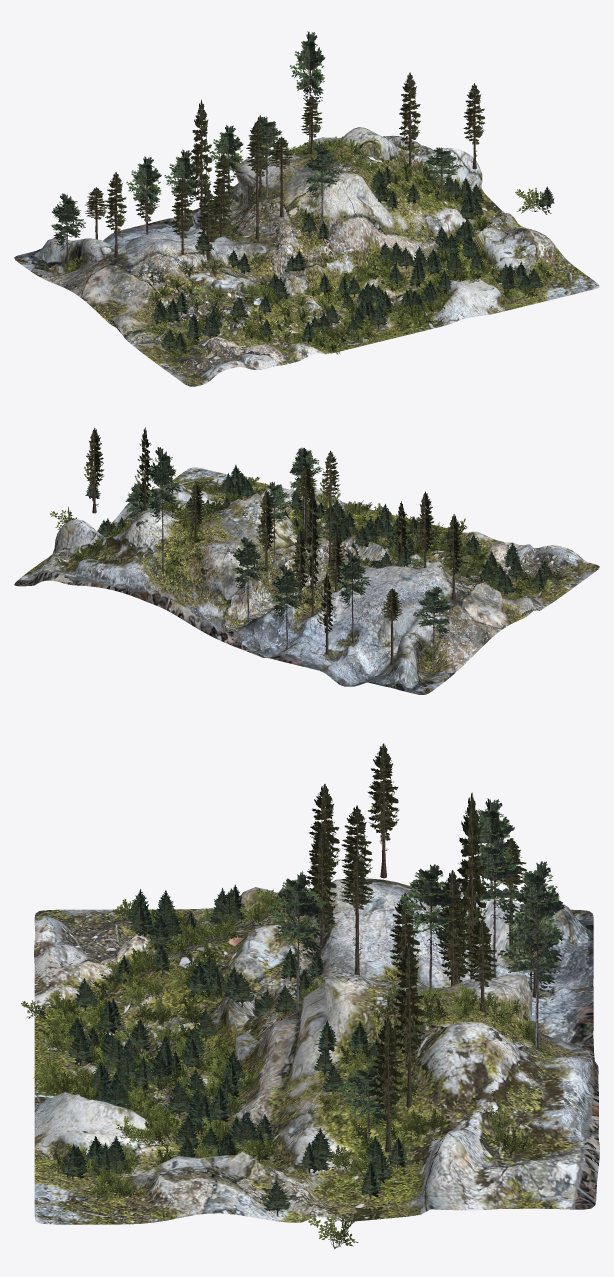
File: the_landscape_is_a_forest_in_the_mountains.glb
3 views of the same model, one above another, from view 1: azimuth 30°, elevation 25°; view 2: azimuth 150°, elevation 25°; view 3: azimuth 270°, elevation 25° (orthographic). The views are drawn at different scales.
Parts seen in each view (by area): view 1: a37081a7611992c6f6d9dc1786dbc08d_a37081a7611992c6f6d9dc1786d, 05ade0e713892be558511d706fa6c547-no-bg-preview (carve.photos (×8), Cylinder.023_5abdab9bf64818adacd4984d5925e5ca (1)-no-bg-prev, Cylinder.018_5abdab9bf64818adacd4984d5925e5ca (1)-no-bg-prev, Cylinder.019_5abdab9bf64818adacd4984d5925e5ca (1)-no-bg-prev, Cylinder.016_5abdab9bf64818adacd4984d5925e5ca (1)-no-bg-prev, Cylinder.015_5abdab9bf64818adacd4984d5925e5ca (1)-no-bg-prev, Cylinder.014_5abdab9bf64818adacd4984d5925e5ca (1)-no-bg-prev, Cylinder.012_5abdab9bf64818adacd4984d5925e5ca (1)-no-bg-prev, Cylinder.017_5abdab9bf64818adacd4984d5925e5ca (1)-no-bg-prev, Cylinder.022_5abdab9bf64818adacd4984d5925e5ca (1)-no-bg-prev, Cylinder.020_5abdab9bf64818adacd4984d5925e5ca (1)-no-bg-prev; view 2: a37081a7611992c6f6d9dc1786dbc08d_a37081a7611992c6f6d9dc1786d, 05ade0e713892be558511d706fa6c547-no-bg-preview (carve.photos (×8), Cylinder.023_5abdab9bf64818adacd4984d5925e5ca (1)-no-bg-prev, Cylinder.015_5abdab9bf64818adacd4984d5925e5ca (1)-no-bg-prev, Cylinder.019_5abdab9bf64818adacd4984d5925e5ca (1)-no-bg-prev, Cylinder.016_5abdab9bf64818adacd4984d5925e5ca (1)-no-bg-prev, Cylinder.021_5abdab9bf64818adacd4984d5925e5ca (1)-no-bg-prev, Cylinder.022_5abdab9bf64818adacd4984d5925e5ca (1)-no-bg-prev, Cylinder.023, Cylinder.017_5abdab9bf64818adacd4984d5925e5ca (1)-no-bg-prev, Cylinder.012_5abdab9bf64818adacd4984d5925e5ca (1)-no-bg-prev, Cylinder.018_5abdab9bf64818adacd4984d5925e5ca (1)-no-bg-prev (+6 smaller); view 3: a37081a7611992c6f6d9dc1786dbc08d_a37081a7611992c6f6d9dc1786d, 05ade0e713892be558511d706fa6c547-no-bg-preview (carve.photos (×11), Cylinder.023_5abdab9bf64818adacd4984d5925e5ca (1)-no-bg-prev, Cylinder.018_5abdab9bf64818adacd4984d5925e5ca (1)-no-bg-prev, Cylinder.016_5abdab9bf64818adacd4984d5925e5ca (1)-no-bg-prev, Cylinder.019_5abdab9bf64818adacd4984d5925e5ca (1)-no-bg-prev, Cylinder.014_5abdab9bf64818adacd4984d5925e5ca (1)-no-bg-prev, Cylinder.021_5abdab9bf64818adacd4984d5925e5ca (1)-no-bg-prev, Cylinder.015_5abdab9bf64818adacd4984d5925e5ca (1)-no-bg-prev, Cylinder.020_5abdab9bf64818adacd4984d5925e5ca (1)-no-bg-prev, Cylinder.017_5abdab9bf64818adacd4984d5925e5ca (1)-no-bg-prev, Cylinder.012_5abdab9bf64818adacd4984d5925e5ca (1)-no-bg-prev (+3 smaller).
Boxes of the visible parts, x1,y1,x2,y2 form: a37081a7611992c6f6d9dc1786dbc08d_a37081a7611992c6f6d9dc1786d: (14, 127, 599, 386); 05ade0e713892be558511d706fa6c547-no-bg-preview (carve.photos (×8): (52, 31, 462, 273); Cylinder.023_5abdab9bf64818adacd4984d5925e5ca (1)-no-bg-prev: (190, 99, 211, 207); Cylinder.018_5abdab9bf64818adacd4984d5925e5ca (1)-no-bg-prev: (399, 72, 420, 148); Cylinder.019_5abdab9bf64818adacd4984d5925e5ca (1)-no-bg-prev: (463, 83, 484, 144); Cylinder.016_5abdab9bf64818adacd4984d5925e5ca (1)-no-bg-prev: (105, 172, 126, 245); Cylinder.015_5abdab9bf64818adacd4984d5925e5ca (1)-no-bg-prev: (171, 177, 192, 251); Cylinder.014_5abdab9bf64818adacd4984d5925e5ca (1)-no-bg-prev: (197, 188, 218, 249); Cylinder.012_5abdab9bf64818adacd4984d5925e5ca (1)-no-bg-prev: (246, 121, 267, 190); Cylinder.017_5abdab9bf64818adacd4984d5925e5ca (1)-no-bg-prev: (210, 181, 230, 233); Cylinder.022_5abdab9bf64818adacd4984d5925e5ca (1)-no-bg-prev: (213, 153, 234, 214); Cylinder.020_5abdab9bf64818adacd4984d5925e5ca (1)-no-bg-prev: (301, 95, 322, 137); a37081a7611992c6f6d9dc1786dbc08d_a37081a7611992c6f6d9dc1786d: (14, 467, 599, 694); 05ade0e713892be558511d706fa6c547-no-bg-preview (carve.photos (×8): (125, 447, 451, 667); Cylinder.023_5abdab9bf64818adacd4984d5925e5ca (1)-no-bg-prev: (307, 484, 318, 590); Cylinder.015_5abdab9bf64818adacd4984d5925e5ca (1)-no-bg-prev: (417, 491, 434, 553); Cylinder.019_5abdab9bf64818adacd4984d5925e5ca (1)-no-bg-prev: (86, 427, 103, 489); Cylinder.016_5abdab9bf64818adacd4984d5925e5ca (1)-no-bg-prev: (445, 514, 462, 575); Cylinder.021_5abdab9bf64818adacd4984d5925e5ca (1)-no-bg-prev: (258, 490, 275, 551); Cylinder.022_5abdab9bf64818adacd4984d5925e5ca (1)-no-bg-prev: (292, 529, 308, 590); Cylinder.023: (302, 492, 322, 616); Cylinder.017_5abdab9bf64818adacd4984d5925e5ca (1)-no-bg-prev: (327, 533, 344, 586); Cylinder.012_5abdab9bf64818adacd4984d5925e5ca (1)-no-bg-prev: (322, 450, 339, 519); Cylinder.018_5abdab9bf64818adacd4984d5925e5ca (1)-no-bg-prev: (139, 427, 150, 501); a37081a7611992c6f6d9dc1786dbc08d_a37081a7611992c6f6d9dc1786d: (34, 878, 599, 1224); 05ade0e713892be558511d706fa6c547-no-bg-preview (carve.photos (×11): (267, 798, 565, 1149); Cylinder.023_5abdab9bf64818adacd4984d5925e5ca (1)-no-bg-prev: (456, 792, 486, 961); Cylinder.018_5abdab9bf64818adacd4984d5925e5ca (1)-no-bg-prev: (393, 942, 424, 1068); Cylinder.016_5abdab9bf64818adacd4984d5925e5ca (1)-no-bg-prev: (367, 743, 398, 841); Cylinder.019_5abdab9bf64818adacd4984d5925e5ca (1)-no-bg-prev: (372, 1017, 402, 1119); Cylinder.014_5abdab9bf64818adacd4984d5925e5ca (1)-no-bg-prev: (306, 828, 336, 926); Cylinder.021_5abdab9bf64818adacd4984d5925e5ca (1)-no-bg-prev: (437, 870, 467, 971); Cylinder.015_5abdab9bf64818adacd4984d5925e5ca (1)-no-bg-prev: (308, 784, 339, 880); Cylinder.020_5abdab9bf64818adacd4984d5925e5ca (1)-no-bg-prev: (467, 919, 497, 987); Cylinder.017_5abdab9bf64818adacd4984d5925e5ca (1)-no-bg-prev: (389, 893, 419, 975); Cylinder.012_5abdab9bf64818adacd4984d5925e5ca (1)-no-bg-prev: (341, 805, 371, 914).
Size of the model in its own units: 33.66 by 13.04 by 23.4.
10 materials, 10 textured.
